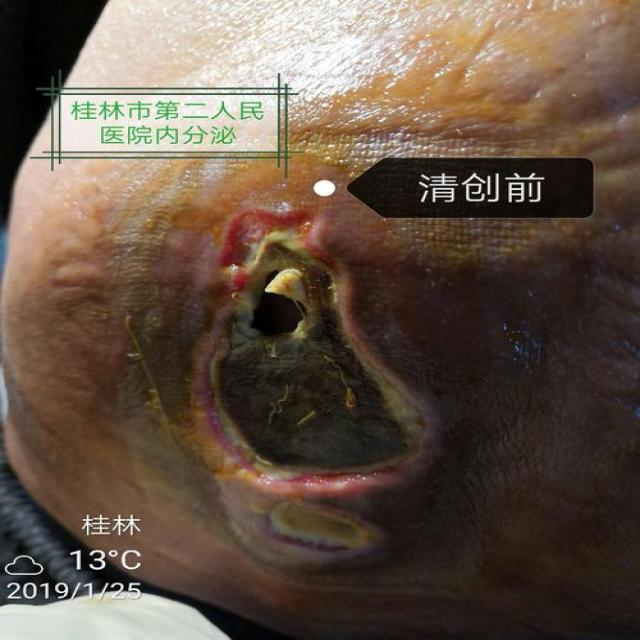Unstageable: (190, 211, 430, 568)
